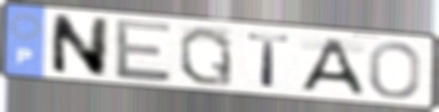A: (296, 36, 368, 97)
E: (112, 17, 174, 83)
N: (49, 12, 112, 79)
O: (367, 40, 424, 100)
Q: (177, 24, 236, 88)
T: (245, 32, 294, 90)
